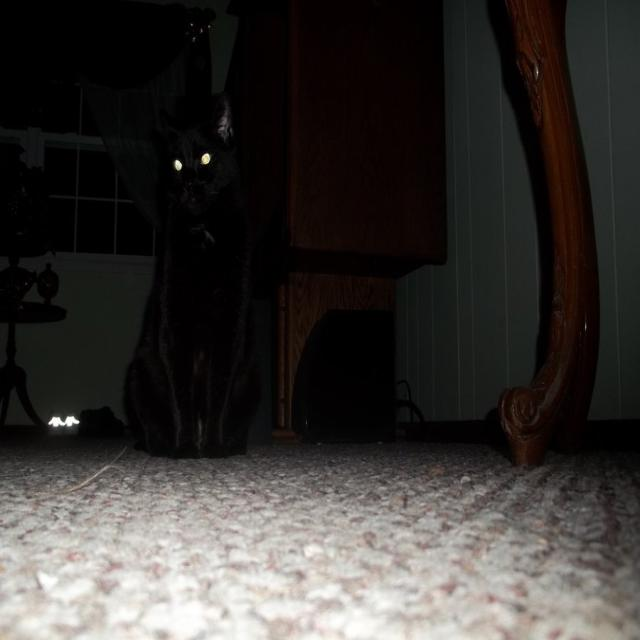Cat: (118, 88, 274, 495)
Table: (0, 271, 70, 448)
